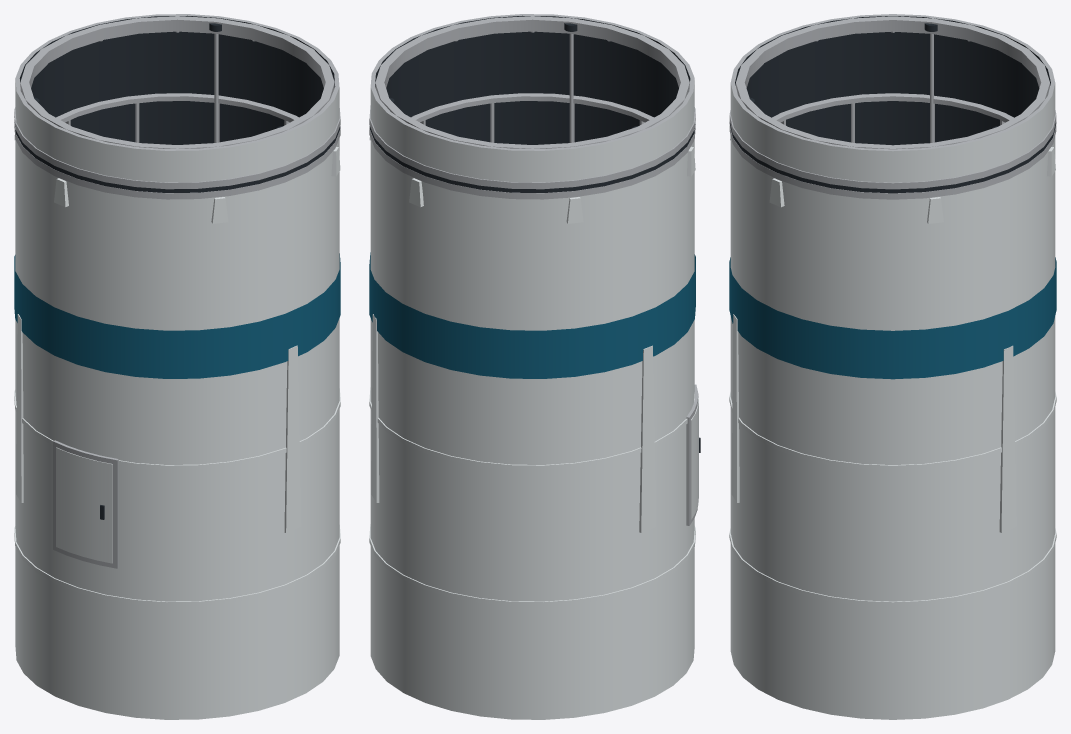
Rendered from interstage_pneumatic_d15.glb.
3 views of the same model, side by side, from view 1: azimuth 30°, elevation 25°; view 2: azimuth 150°, elevation 25°; view 3: azimuth 270°, elevation 25° (orthographic).
Visible parts, largest first — view 1: interstage_pneumatic_d15_mesh; view 2: interstage_pneumatic_d15_mesh; view 3: interstage_pneumatic_d15_mesh.
Boxes of the visible parts, x1,y1,x2,y2 form: interstage_pneumatic_d15_mesh: (14,14,340,719); interstage_pneumatic_d15_mesh: (369,14,700,719); interstage_pneumatic_d15_mesh: (729,14,1056,719).
Size of the model in its own units: 1.51 by 2.9 by 1.51.
